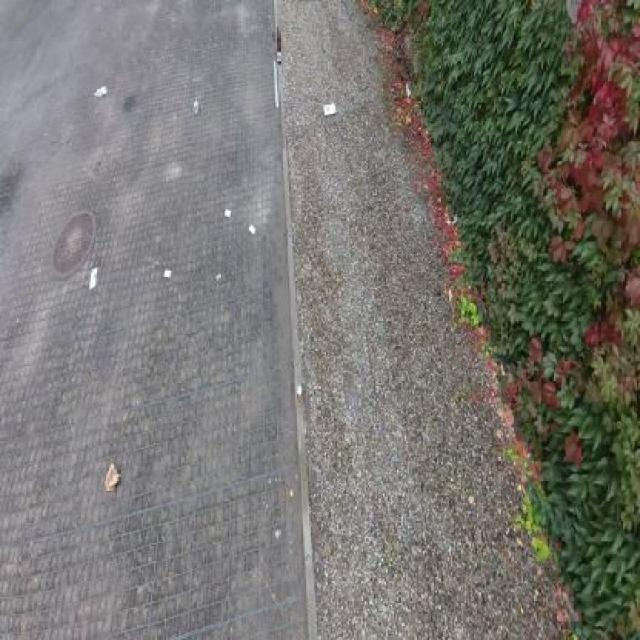Garbage: (104, 464, 121, 491), (274, 59, 279, 107), (89, 268, 98, 289), (276, 26, 281, 63), (322, 103, 337, 115), (94, 85, 107, 96), (248, 222, 256, 236), (194, 96, 199, 114), (224, 207, 232, 218), (297, 385, 302, 402), (163, 269, 172, 278)
